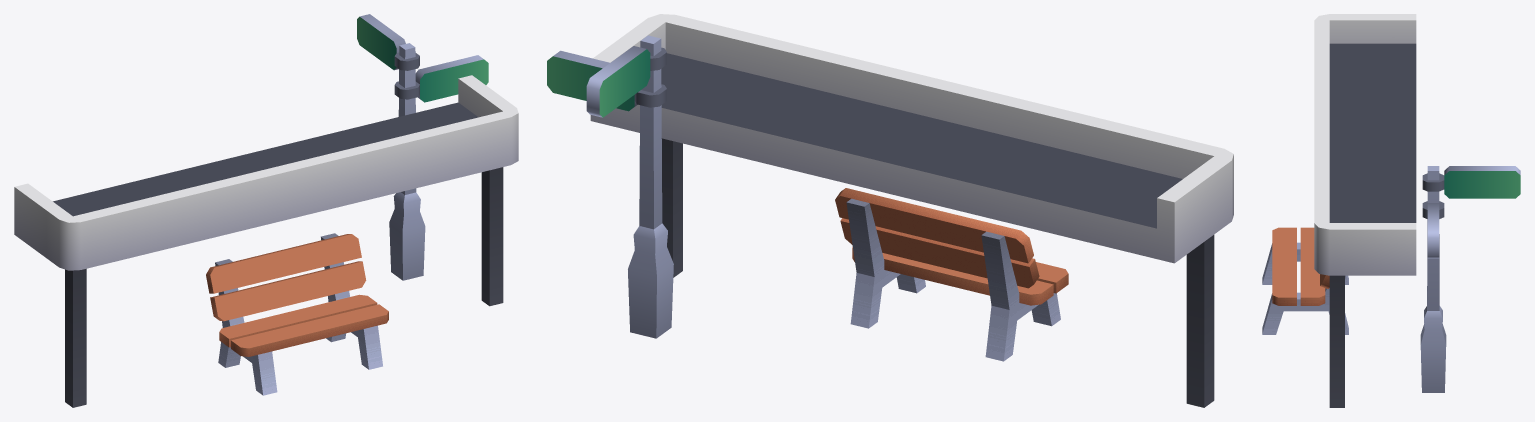
File: bus-stop.glb
3 views of the same model, side by side, from view 1: azimuth 30°, elevation 25°; view 2: azimuth 150°, elevation 25°; view 3: azimuth 270°, elevation 25° (orthographic). The views are drawn at different scales.
Visible parts, largest first — view 1: detail-overhang-wide, bench, road-sign-street; view 2: detail-overhang-wide, bench, road-sign-street; view 3: detail-overhang-wide, road-sign-street, bench.
Part boxes in pixels (<box>): detail-overhang-wide: <box>14,75,518,407</box>; bench: <box>206,233,388,395</box>; road-sign-street: <box>357,14,488,280</box>; detail-overhang-wide: <box>590,14,1233,407</box>; bench: <box>835,188,1068,361</box>; road-sign-street: <box>547,35,673,338</box>; detail-overhang-wide: <box>1314,14,1416,407</box>; road-sign-street: <box>1420,166,1520,392</box>; bench: <box>1262,227,1348,334</box>.
Bounding box in the file's own units: 0.9441 × 0.4275 × 0.4563.
Materials: 3 (3 with a texture image).
